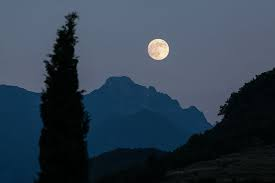moon: (146, 38, 170, 60)
